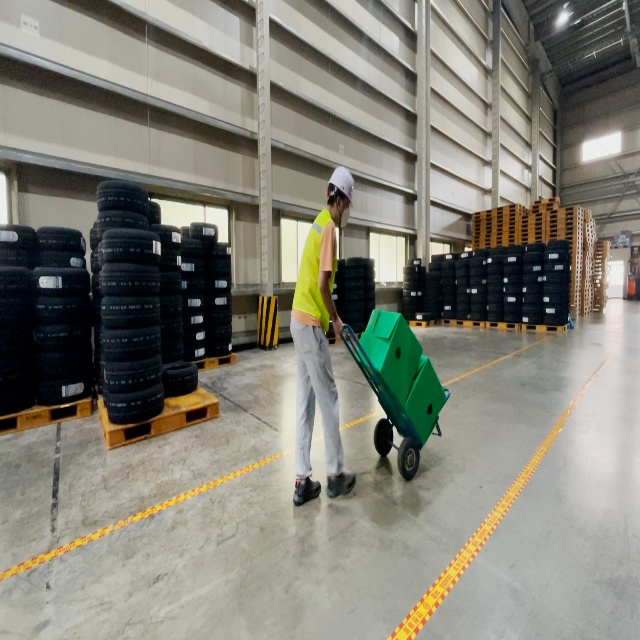Box: (355, 307, 424, 409), (393, 353, 447, 447)
Worker: (290, 165, 357, 508)
